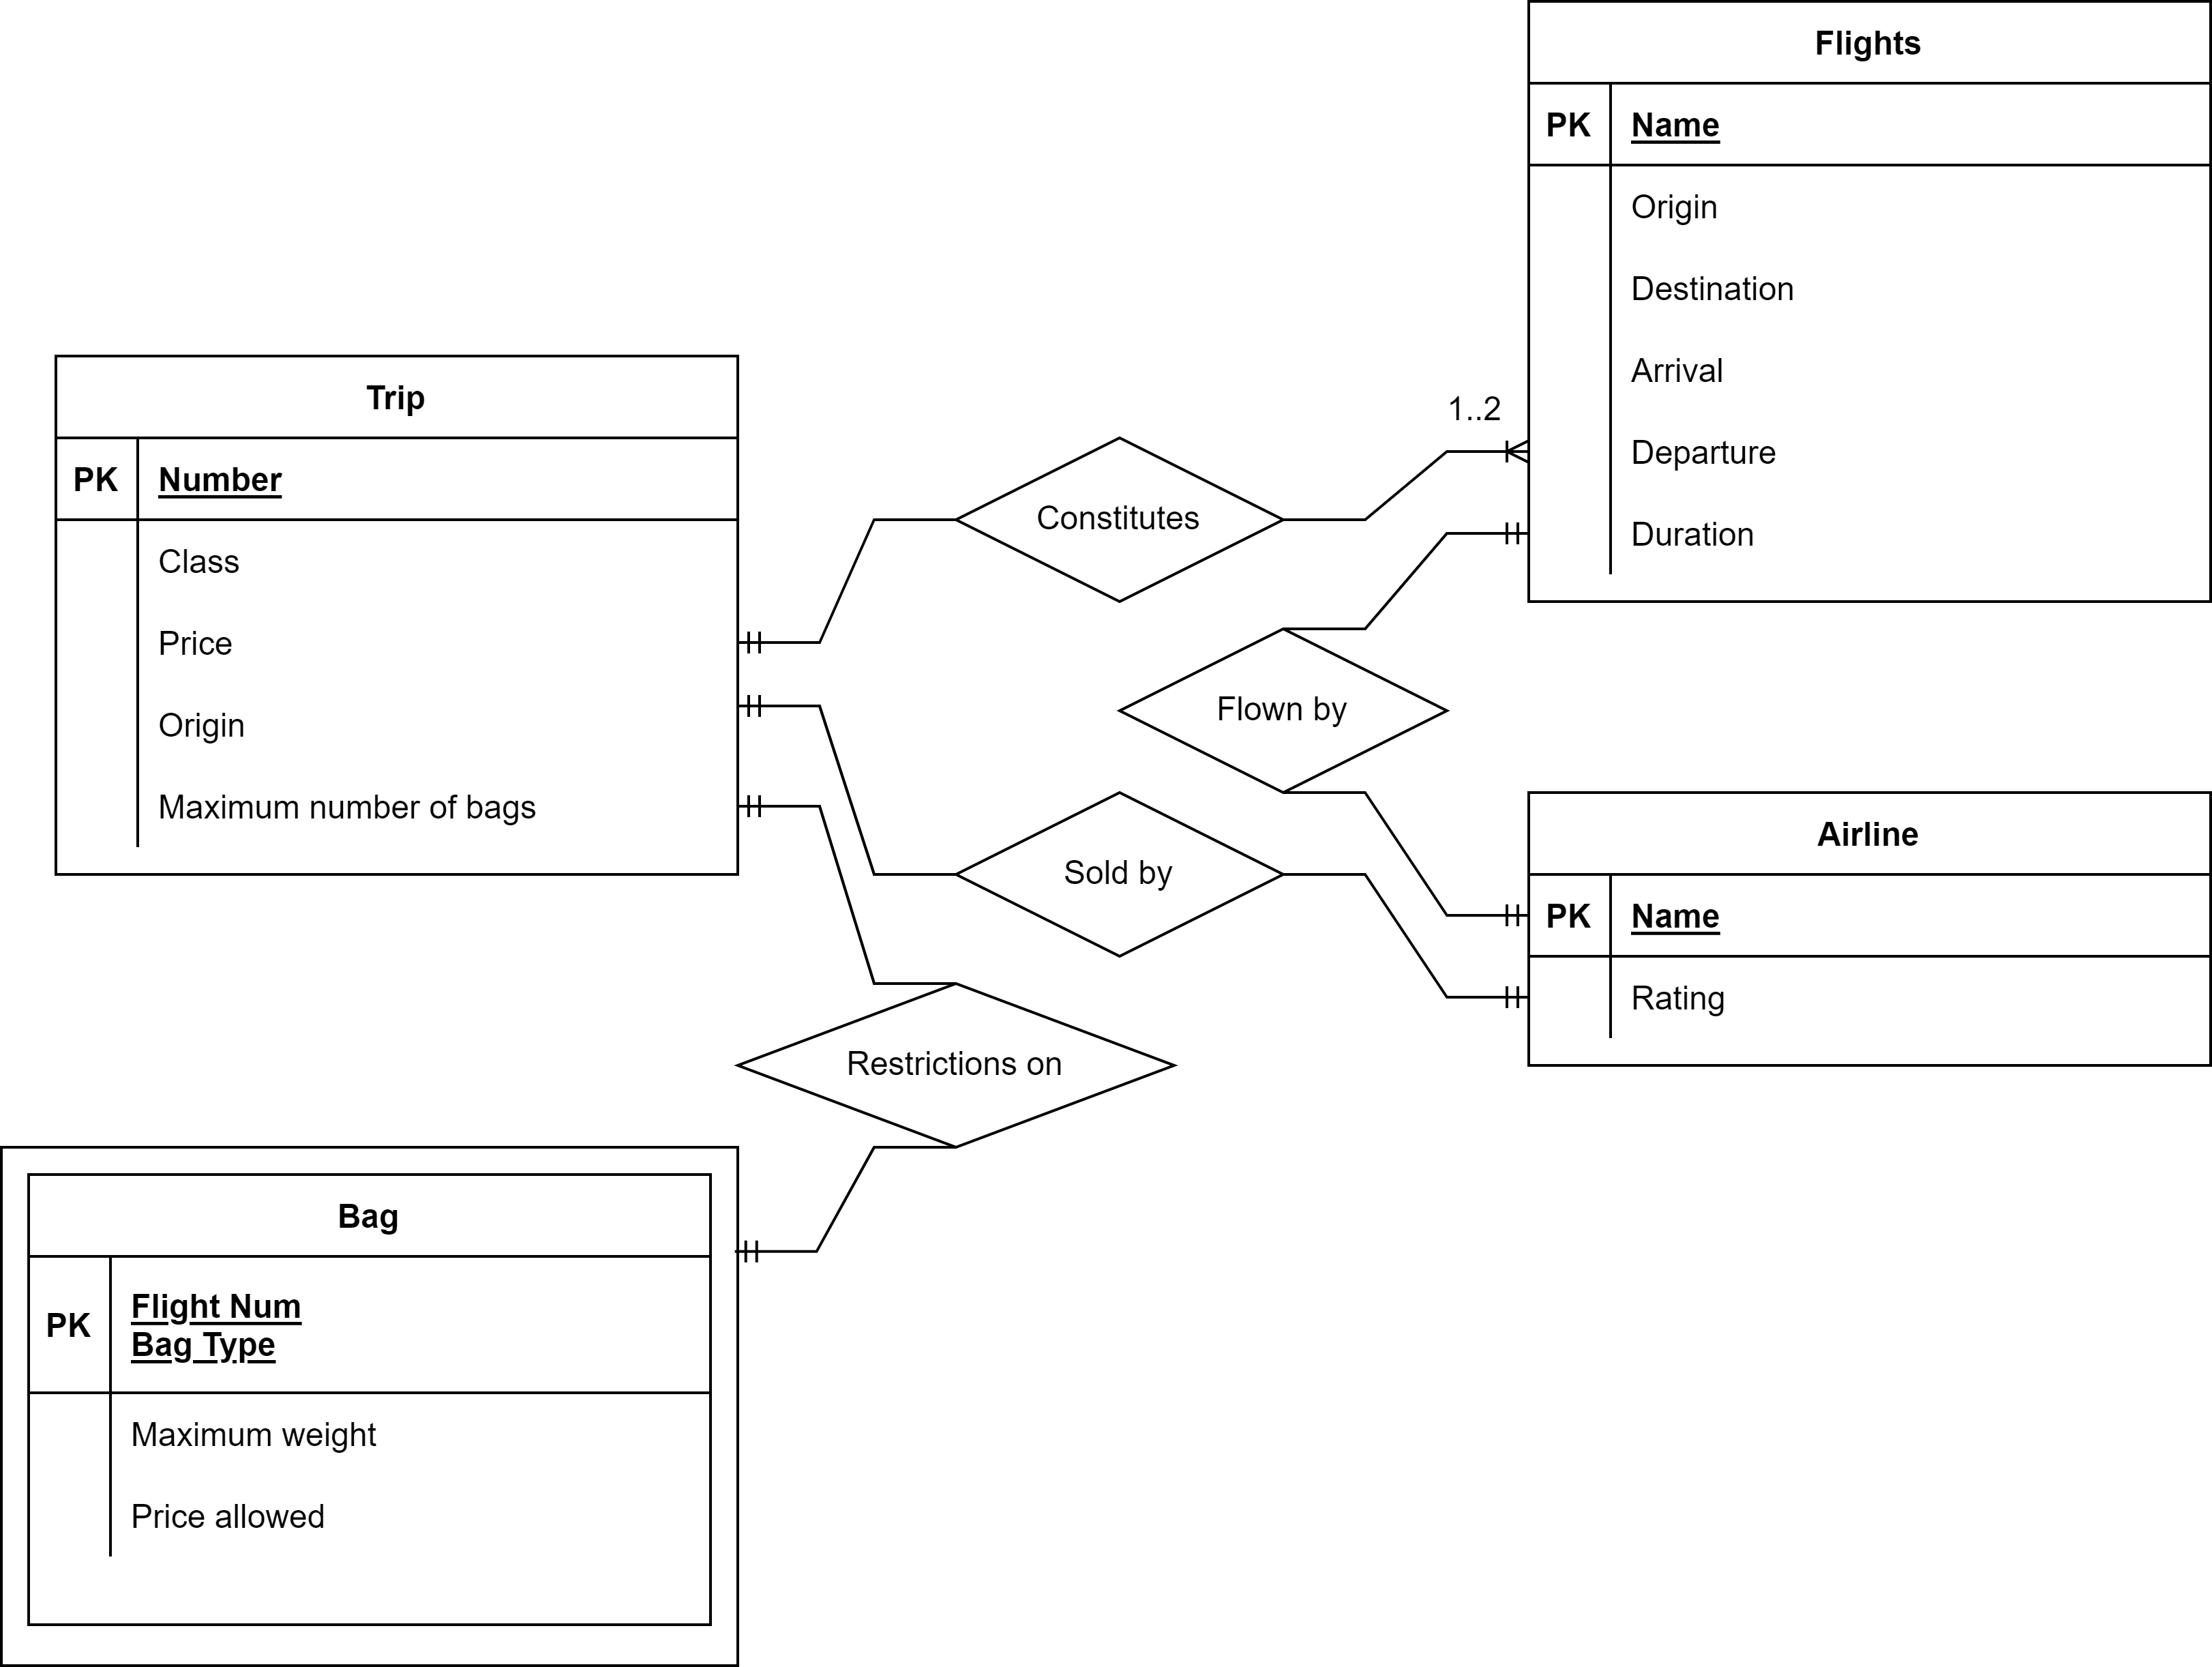entity: (1526, 2, 2212, 602), (52, 352, 740, 877), (1524, 790, 2212, 1066)
many: (1449, 436, 1531, 466)
one: (737, 622, 819, 664), (1442, 515, 1529, 552), (737, 1236, 817, 1275), (737, 692, 821, 728), (1449, 900, 1529, 932), (1445, 982, 1522, 1012), (737, 795, 817, 821)
rel: (735, 984, 1179, 1149), (1120, 627, 1451, 793), (962, 434, 1283, 606), (955, 793, 1279, 956)
weak_entity: (0, 1145, 744, 1665)
